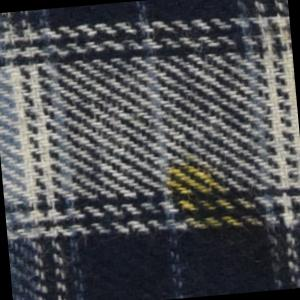Oil Stain: (162, 148, 272, 255)
